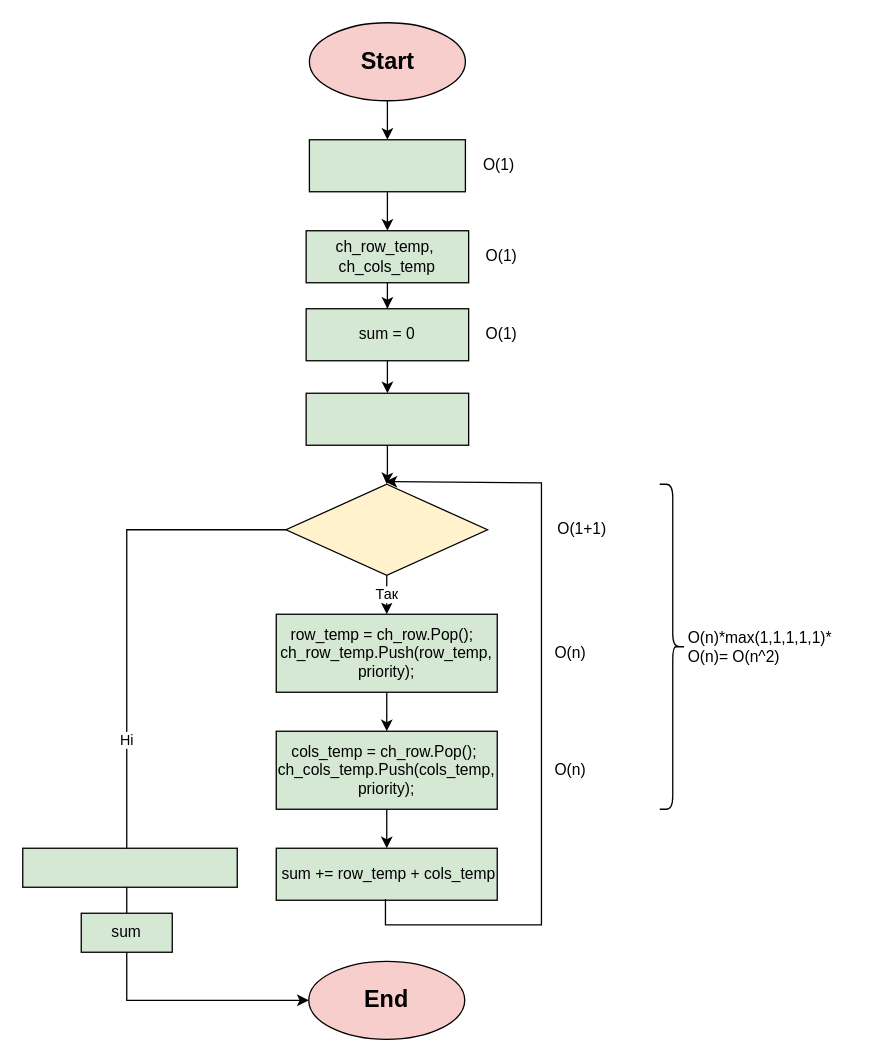
The diagram is 877 pixels wide and 1062 high, and some of its shapes have lost their labels. The shapes that lost their labels are listed below. From the top down, each one's box as (x1, y1, x2, y2) in pixels, then its label:
(308, 138, 465, 192): ch_row, ch_cols
(305, 392, 469, 445): priority = 0
(285, 483, 488, 575): !ch_row.IsEmpty() || !ch_cols.IsEmpty()
(21, 847, 237, 887): ch_row = ch_row_temp; ch_cols = ch_cols_temp;
